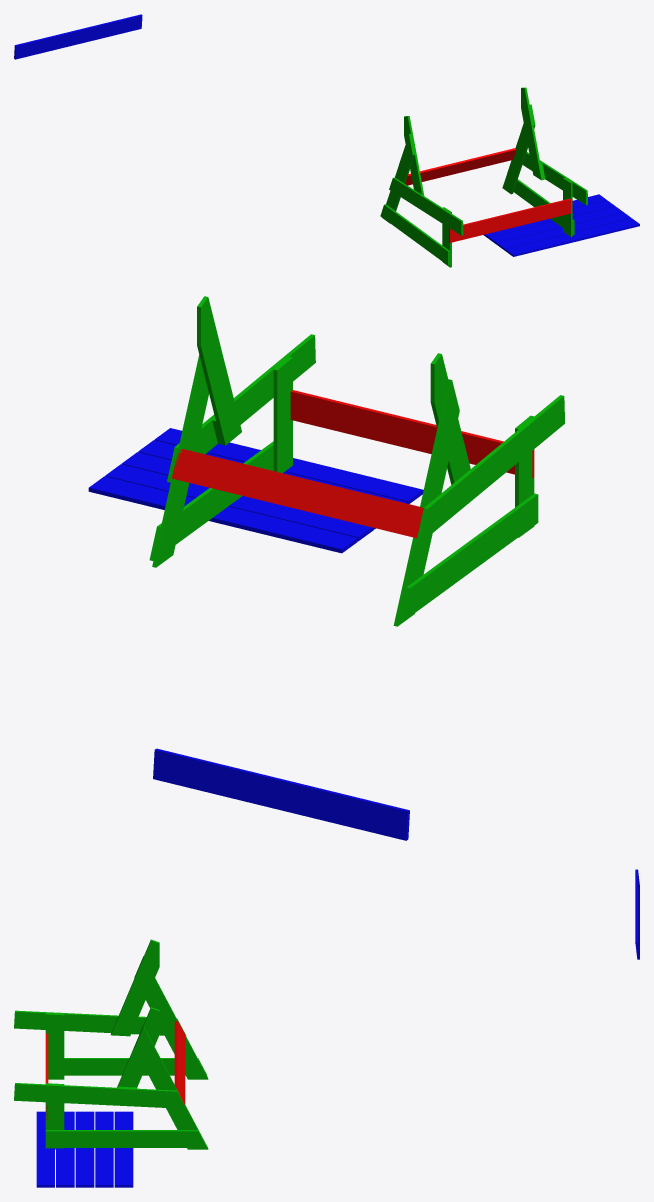
File: result.glb
The picture shows the model from 3 angles, top to bottom: view 1: azimuth 30°, elevation 25°; view 2: azimuth 150°, elevation 25°; view 3: azimuth 270°, elevation 25°; orthographic projection. The views are drawn at different scales.
Visible parts, largest first — view 1: 3f72f57b-b4f8-4545-a5b4-84e1f52bb89a__Box_8, 711e97e2-7bf4-47ff-8c1b-40b0c2bd01bd__Plane_1, 393d563b-8cb6-4797-9285-2cca07fdb48f__Box_5, c23f23e6-3637-40fc-810f-acdb81a7dfd7__Plane_2, 7f00e8d8-f6b1-4afc-8ed5-35849324da4e__undefined, cd555f12-0a9e-473a-ba9e-f17396279154__undefined, bdb45c22-9cfd-4ba4-9c16-eead286cacc4__Box_1, 0c833493-d4f2-4aa9-9e2a-79dd3c716a7e__Box_2, ad63d580-5ed2-4337-9caf-ba2336028e65__undefined, db2a91bb-c2bf-43ca-9261-e6eb5d155525__undefined, 258a21e0-75ef-4b40-a22f-ba8809baf580__undefined, 9f22b587-3f14-4a02-8bd0-e999e38eb5ae__Box_3 (+4 smaller); view 2: 3f72f57b-b4f8-4545-a5b4-84e1f52bb89a__Box_8, c23f23e6-3637-40fc-810f-acdb81a7dfd7__Plane_2, 711e97e2-7bf4-47ff-8c1b-40b0c2bd01bd__Plane_1, 2c6c2720-680a-477a-8139-7dd096433389__undefined (×2), 7f00e8d8-f6b1-4afc-8ed5-35849324da4e__undefined, cd555f12-0a9e-473a-ba9e-f17396279154__undefined, a5100e2a-a023-42d9-aae4-f4e611bf58ab__Box_4, 258a21e0-75ef-4b40-a22f-ba8809baf580__undefined, 9f22b587-3f14-4a02-8bd0-e999e38eb5ae__Box_3, ad63d580-5ed2-4337-9caf-ba2336028e65__undefined, 393d563b-8cb6-4797-9285-2cca07fdb48f__Box_5, db2a91bb-c2bf-43ca-9261-e6eb5d155525__undefined (+5 smaller); view 3: db2a91bb-c2bf-43ca-9261-e6eb5d155525__undefined, 214eae74-dd0d-4d7a-861d-60451c8addf7__Plane, 2c6c2720-680a-477a-8139-7dd096433389__undefined (×2), d95d7631-c15a-440b-8045-7ea481dc0db4__undefined, 7f00e8d8-f6b1-4afc-8ed5-35849324da4e__undefined, 258a21e0-75ef-4b40-a22f-ba8809baf580__undefined, cd555f12-0a9e-473a-ba9e-f17396279154__undefined, 823b1cdc-b369-48e4-a06e-873221b46b8f__undefined, 0c833493-d4f2-4aa9-9e2a-79dd3c716a7e__Box_2, a5100e2a-a023-42d9-aae4-f4e611bf58ab__Box_4, 393d563b-8cb6-4797-9285-2cca07fdb48f__Box_5, 9f22b587-3f14-4a02-8bd0-e999e38eb5ae__Box_3 (+4 smaller).
Boxes of the visible parts, <box> form: 3f72f57b-b4f8-4545-a5b4-84e1f52bb89a__Box_8: <box>14,14,142,59</box>; 711e97e2-7bf4-47ff-8c1b-40b0c2bd01bd__Plane_1: <box>449,198,572,242</box>; 393d563b-8cb6-4797-9285-2cca07fdb48f__Box_5: <box>505,218,639,256</box>; c23f23e6-3637-40fc-810f-acdb81a7dfd7__Plane_2: <box>405,148,516,185</box>; 7f00e8d8-f6b1-4afc-8ed5-35849324da4e__undefined: <box>389,177,463,235</box>; cd555f12-0a9e-473a-ba9e-f17396279154__undefined: <box>380,204,449,265</box>; bdb45c22-9cfd-4ba4-9c16-eead286cacc4__Box_1: <box>497,212,631,250</box>; 0c833493-d4f2-4aa9-9e2a-79dd3c716a7e__Box_2: <box>489,206,623,244</box>; ad63d580-5ed2-4337-9caf-ba2336028e65__undefined: <box>521,87,543,180</box>; db2a91bb-c2bf-43ca-9261-e6eb5d155525__undefined: <box>522,152,587,205</box>; 258a21e0-75ef-4b40-a22f-ba8809baf580__undefined: <box>382,134,414,223</box>; 9f22b587-3f14-4a02-8bd0-e999e38eb5ae__Box_3: <box>483,200,615,238</box>; 3f72f57b-b4f8-4545-a5b4-84e1f52bb89a__Box_8: <box>153,748,409,840</box>; c23f23e6-3637-40fc-810f-acdb81a7dfd7__Plane_2: <box>171,449,423,538</box>; 711e97e2-7bf4-47ff-8c1b-40b0c2bd01bd__Plane_1: <box>290,390,534,478</box>; 2c6c2720-680a-477a-8139-7dd096433389__undefined (×2): <box>152,355,208,567</box>; 7f00e8d8-f6b1-4afc-8ed5-35849324da4e__undefined: <box>416,395,564,543</box>; cd555f12-0a9e-473a-ba9e-f17396279154__undefined: <box>399,493,538,621</box>; a5100e2a-a023-42d9-aae4-f4e611bf58ab__Box_4: <box>88,476,357,553</box>; 258a21e0-75ef-4b40-a22f-ba8809baf580__undefined: <box>393,379,459,626</box>; 9f22b587-3f14-4a02-8bd0-e999e38eb5ae__Box_3: <box>105,464,373,541</box>; ad63d580-5ed2-4337-9caf-ba2336028e65__undefined: <box>197,296,241,445</box>; 393d563b-8cb6-4797-9285-2cca07fdb48f__Box_5: <box>154,428,423,503</box>; db2a91bb-c2bf-43ca-9261-e6eb5d155525__undefined: <box>167,334,315,482</box>; db2a91bb-c2bf-43ca-9261-e6eb5d155525__undefined: <box>14,1083,186,1108</box>; 214eae74-dd0d-4d7a-861d-60451c8addf7__Plane: <box>45,1130,206,1147</box>; 2c6c2720-680a-477a-8139-7dd096433389__undefined (×2): <box>134,1026,208,1149</box>; d95d7631-c15a-440b-8045-7ea481dc0db4__undefined: <box>110,939,159,1036</box>; 7f00e8d8-f6b1-4afc-8ed5-35849324da4e__undefined: <box>14,1010,186,1035</box>; 258a21e0-75ef-4b40-a22f-ba8809baf580__undefined: <box>134,956,208,1079</box>; cd555f12-0a9e-473a-ba9e-f17396279154__undefined: <box>64,1058,206,1075</box>; 823b1cdc-b369-48e4-a06e-873221b46b8f__undefined: <box>45,1013,64,1079</box>; 0c833493-d4f2-4aa9-9e2a-79dd3c716a7e__Box_2: <box>75,1111,94,1187</box>; a5100e2a-a023-42d9-aae4-f4e611bf58ab__Box_4: <box>114,1111,133,1187</box>; 393d563b-8cb6-4797-9285-2cca07fdb48f__Box_5: <box>36,1111,54,1187</box>; 9f22b587-3f14-4a02-8bd0-e999e38eb5ae__Box_3: <box>95,1111,113,1187</box>.
Bounding box in the file's own units: 2477 × 758 × 3040.
